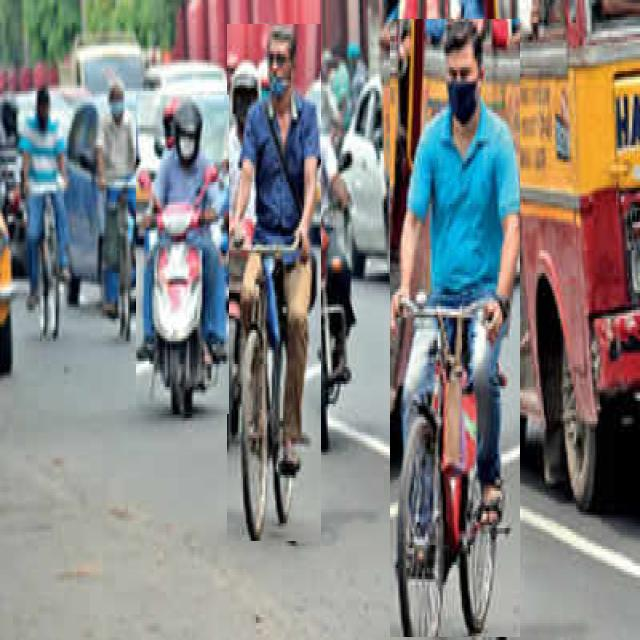bicycle: (390, 20, 520, 637), (227, 25, 320, 541), (136, 96, 229, 414)
